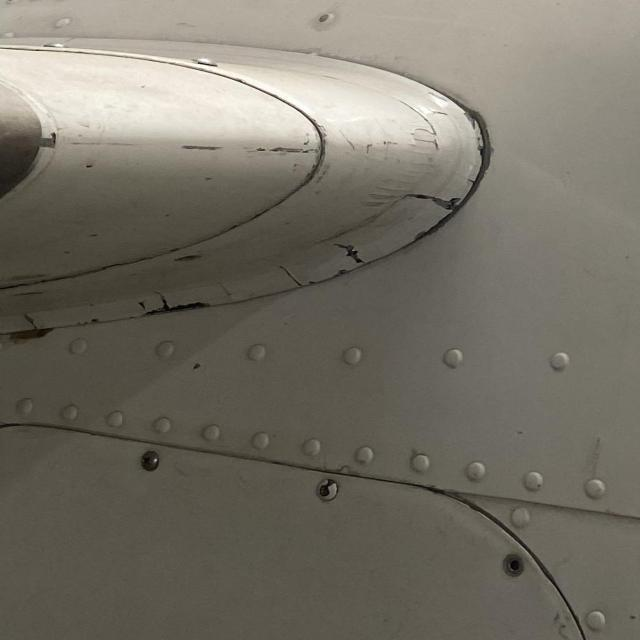Missing-head: (499, 555, 525, 582), (171, 253, 204, 263)
Paint-off: (271, 141, 319, 165), (175, 142, 230, 157), (295, 127, 317, 151), (78, 159, 101, 176), (77, 230, 97, 248), (198, 171, 219, 187), (287, 161, 304, 177), (158, 209, 176, 224), (189, 361, 203, 373)
